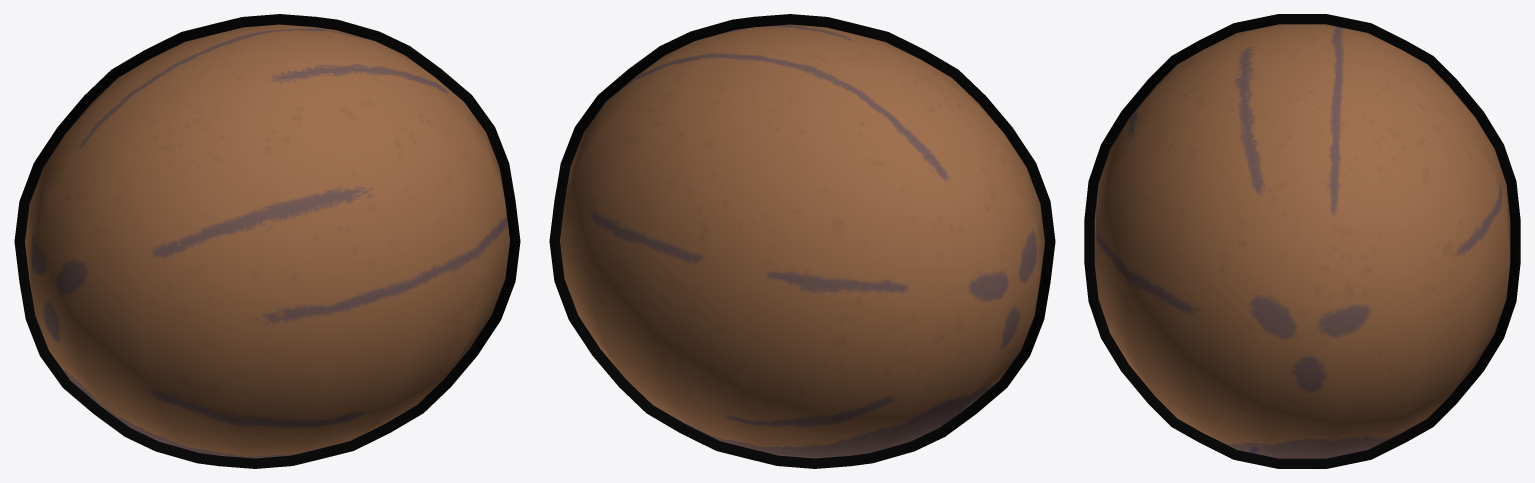
File: Coconut1.fbx
3 renders of one model, left to right at view 1: azimuth 30°, elevation 25°; view 2: azimuth 150°, elevation 25°; view 3: azimuth 270°, elevation 25°, orthographic.
Parts seen in each view (by area): view 1: Coconut_Full; view 2: Coconut_Full; view 3: Coconut_Full.
Part boxes in pixels (box(x1,y1,x2,y2)): Coconut_Full: box(14, 14, 520, 468); Coconut_Full: box(549, 14, 1055, 468); Coconut_Full: box(1084, 14, 1520, 468).
Size of the model in its own units: 25.08 by 21.88 by 21.47.
